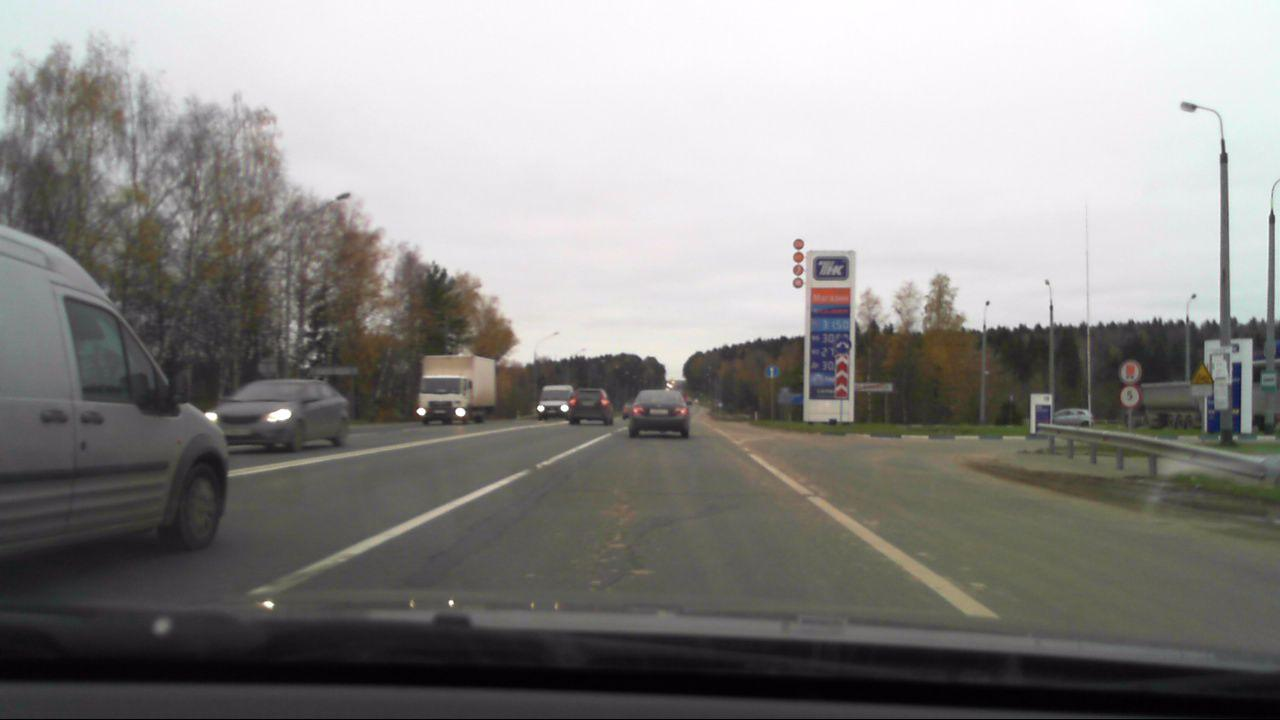3_24: (1120, 385, 1143, 410)
3_32: (1117, 360, 1143, 385)
4_1_1: (765, 366, 780, 379)
4_2_3: (835, 338, 853, 354)
8_22_3: (834, 352, 851, 400)
